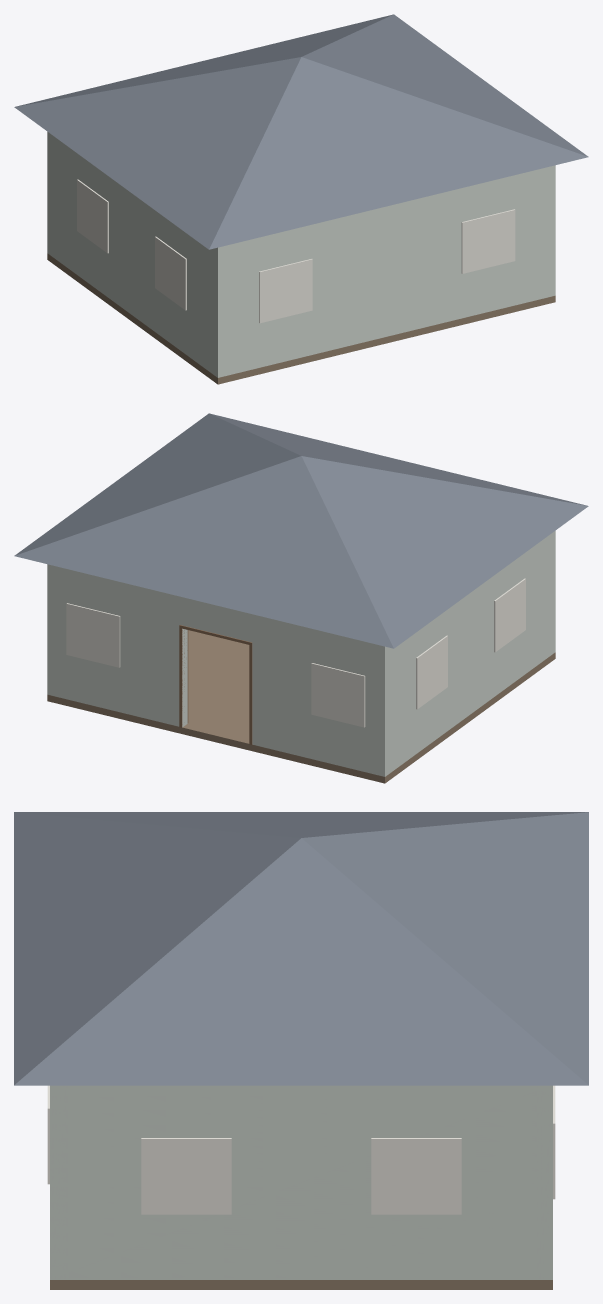
File: house-b.glb
3 views of the same model, one above another, from view 1: azimuth 30°, elevation 25°; view 2: azimuth 150°, elevation 25°; view 3: azimuth 270°, elevation 25° (orthographic). The views are drawn at different scales.
Parts seen in each view (by area): view 1: roof, wall_back, wall_left, floor, winframe.005, winframe.004, winframe, winframe.001, front_L; view 2: roof, wall_left, front_L, front_R, floor, winframe.006, winframe.007, front_lintel, winframe, winframe.001, wall_right, wall_back (+1 smaller); view 3: roof, wall_right, winframe.002, winframe.003, floor, wall_back, front_R.
Boxes of the visible parts, left/top/right/bottom form: roof: left=14, top=14, right=588, bottom=249; wall_back: left=212, top=165, right=555, bottom=377; wall_left: left=47, top=132, right=227, bottom=377; floor: left=47, top=253, right=555, bottom=384; winframe.005: left=461, top=209, right=515, bottom=273; winframe.004: left=259, top=259, right=312, bottom=323; winframe: left=155, top=236, right=186, bottom=310; winframe.001: left=77, top=179, right=108, bottom=253; front_L: left=47, top=132, right=52, bottom=256; roof: left=14, top=413, right=588, bottom=648; wall_left: left=375, top=532, right=555, bottom=776; front_L: left=250, top=613, right=390, bottom=776; front_R: left=47, top=564, right=187, bottom=727; floor: left=47, top=630, right=555, bottom=783; winframe.006: left=311, top=663, right=365, bottom=727; winframe.007: left=66, top=603, right=120, bottom=667; front_lintel: left=182, top=597, right=249, bottom=641; winframe: left=494, top=578, right=525, bottom=652; winframe.001: left=416, top=635, right=447, bottom=709; wall_right: left=47, top=565, right=56, bottom=696; wall_back: left=550, top=531, right=555, bottom=655; roof: left=14, top=812, right=588, bottom=1085; wall_right: left=50, top=1085, right=552, bottom=1279; winframe.002: left=141, top=1138, right=231, bottom=1214; winframe.003: left=371, top=1138, right=461, bottom=1214; floor: left=50, top=1280, right=552, bottom=1289; wall_back: left=50, top=1085, right=65, bottom=1279; front_R: left=537, top=1085, right=552, bottom=1279.
Bounding box in the file's own units: 9 × 5.07 × 8.
